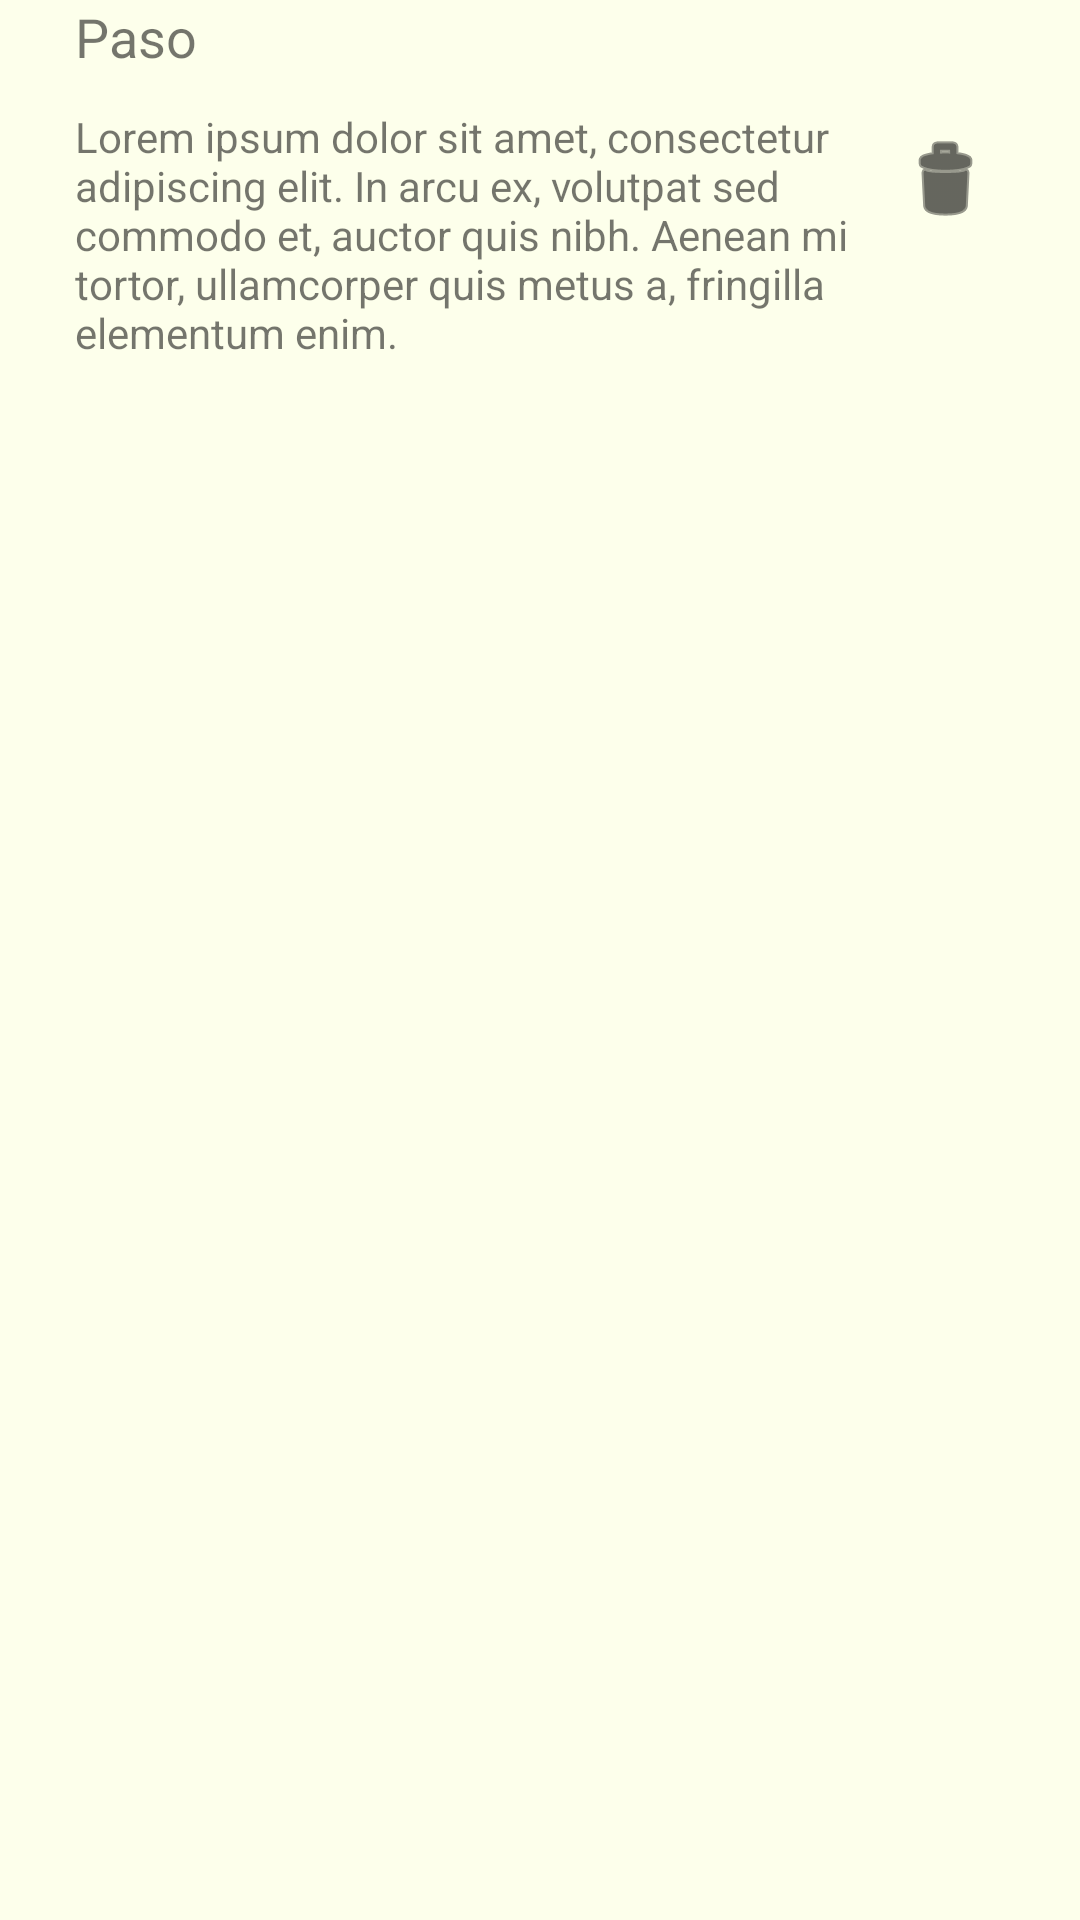

Screen size 1080x1920. Icon name, then its box in pixels as (x1, y1, x2, y2):
delete: (918, 141, 973, 216)
